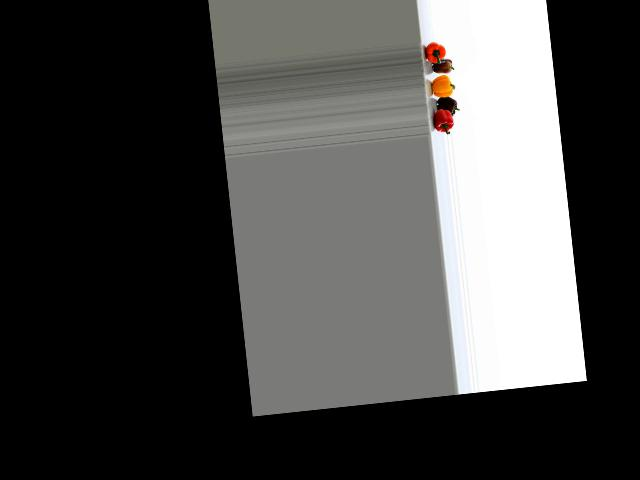bell_pepper: (422, 39, 453, 65)
